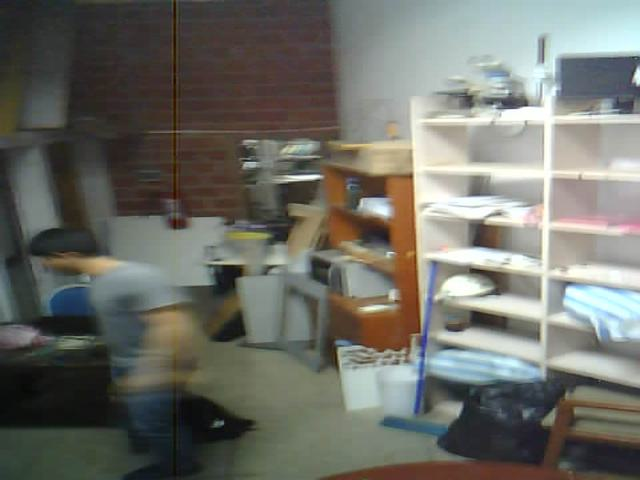person: (12, 204, 275, 480)
